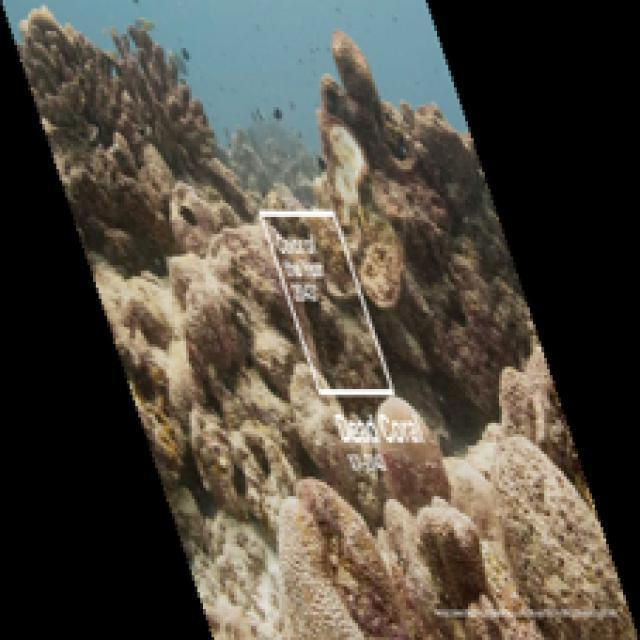Dead Coral: (21, 11, 211, 222), (414, 420, 589, 603), (299, 31, 489, 197), (244, 476, 391, 640), (153, 258, 253, 441)
